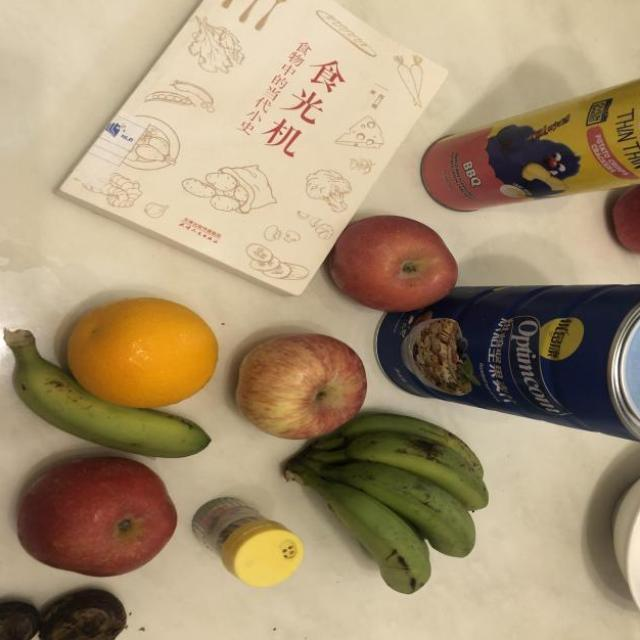Apple: (5, 452, 201, 592), (315, 208, 474, 328), (227, 328, 391, 441)
Banana: (281, 407, 512, 591), (0, 323, 230, 456)
Book: (35, 0, 484, 305)
Orange: (58, 281, 236, 424)
